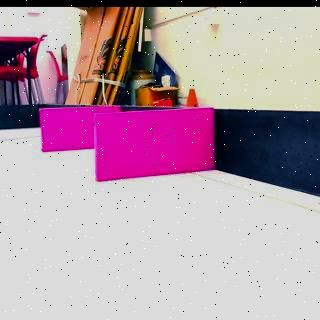xparking: (94, 110, 214, 176), (40, 106, 90, 154)
